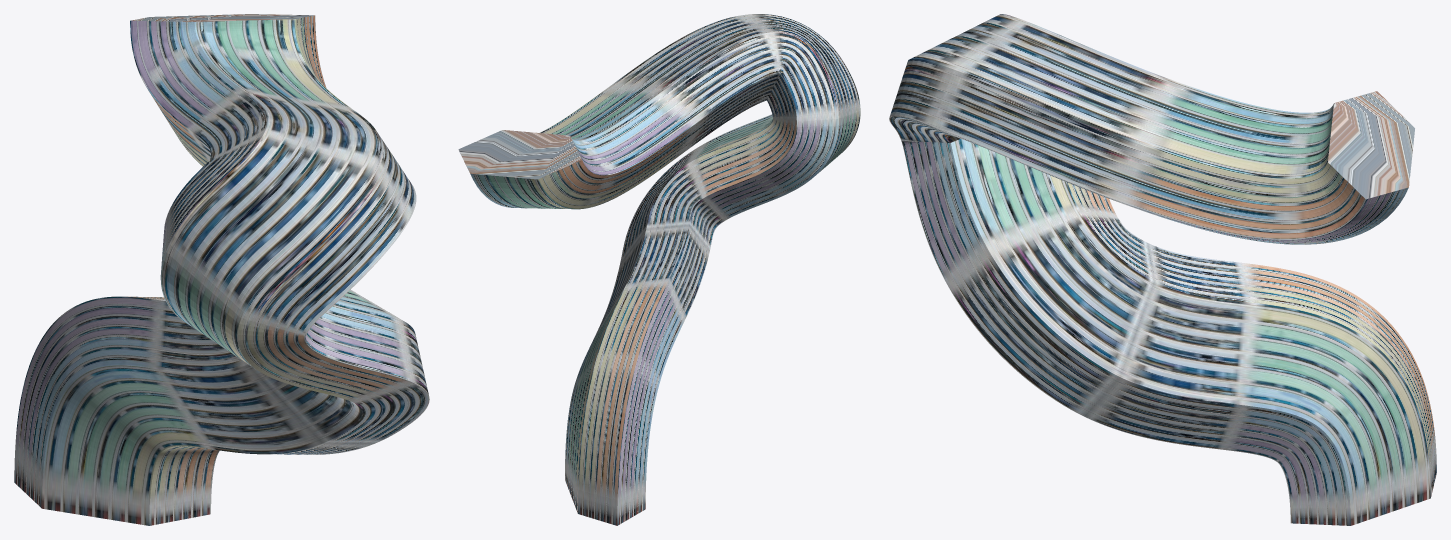
File: Building1.fbx
The picture shows the model from 3 angles, left to right: view 1: azimuth 30°, elevation 25°; view 2: azimuth 150°, elevation 25°; view 3: azimuth 270°, elevation 25°; orthographic projection. The views are drawn at different scales.
Parts seen in each view (by area): view 1: BezierCurve.001; view 2: BezierCurve.001; view 3: BezierCurve.001.
Part boxes in pixels (<box>): BezierCurve.001: <box>14,14,429,525</box>; BezierCurve.001: <box>458,14,860,525</box>; BezierCurve.001: <box>889,14,1436,525</box>.
Bounding box in the file's own units: 268 × 386 × 415.
